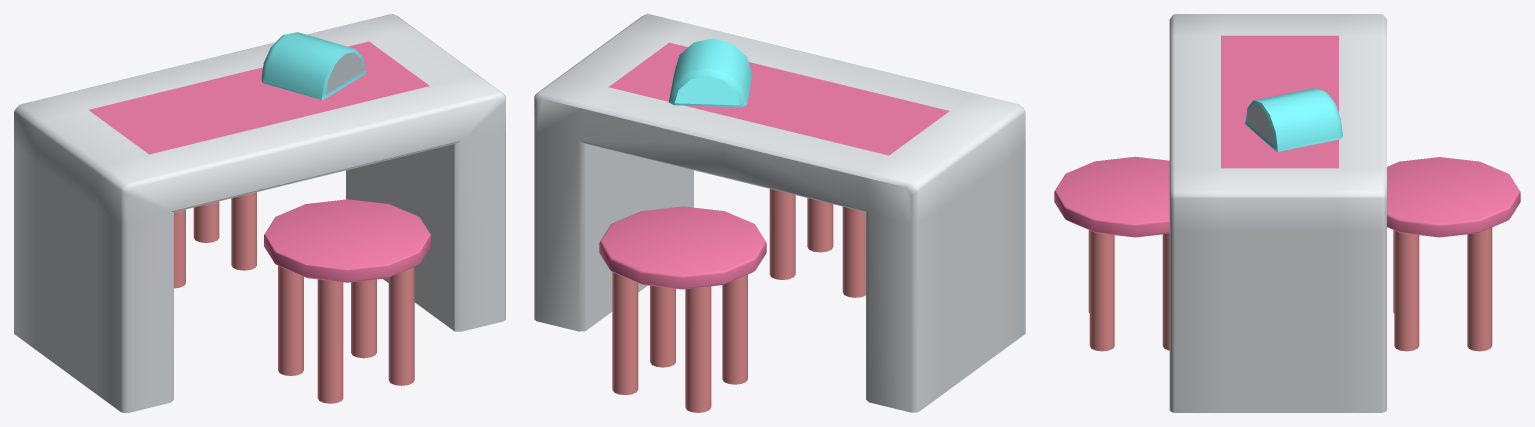
Rendered from Nail Table.fbx.
3 views of the same model, side by side, from view 1: azimuth 30°, elevation 25°; view 2: azimuth 150°, elevation 25°; view 3: azimuth 270°, elevation 25° (orthographic). The views are drawn at different scales.
Visible parts, largest first — view 1: Cube; view 2: Cube; view 3: Cube.
Boxes of the visible parts, x1=… form: Cube: x1=14, y1=14, x2=505, y2=412; Cube: x1=534, y1=14, x2=1025, y2=412; Cube: x1=1054, y1=14, x2=1520, y2=412.
Size of the model in its own units: 1.81 by 1.18 by 1.96.
